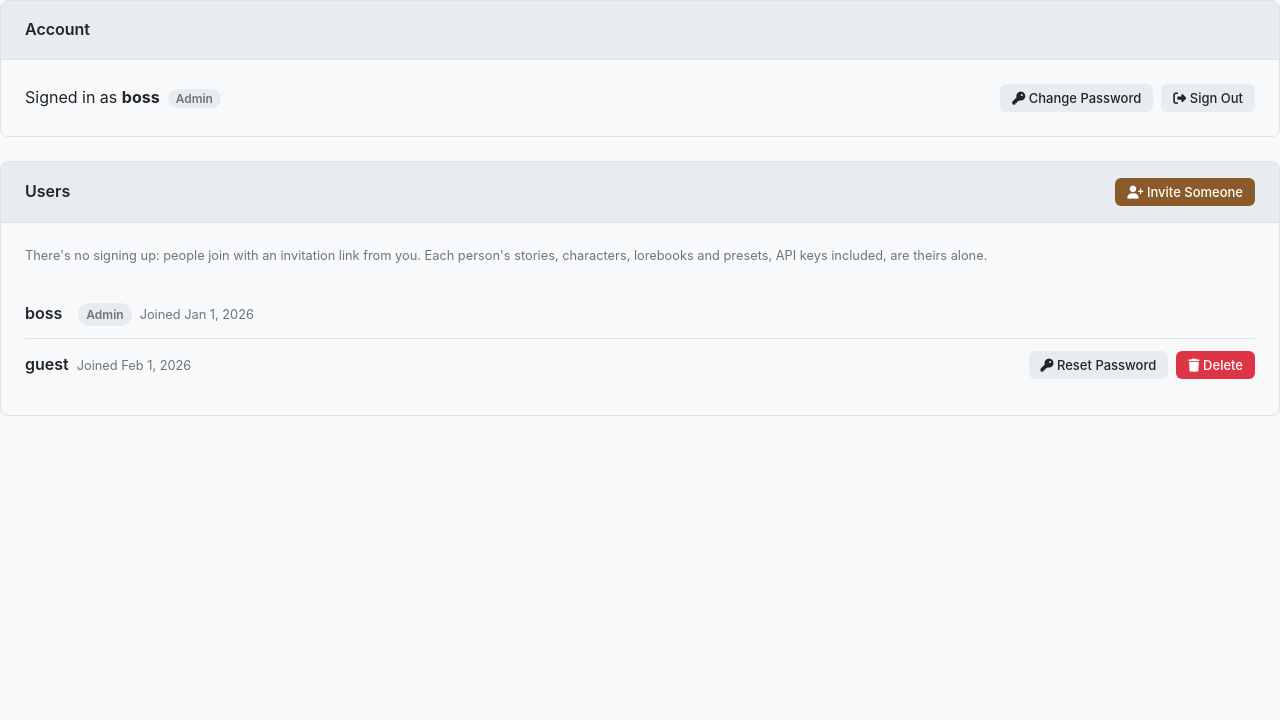
Test: AccountSettings › for the admin, signed in › shows an invitation link to copy
Click the button "Invite Someone". click: click(1185, 192)
box: [1115,178,1255,206]
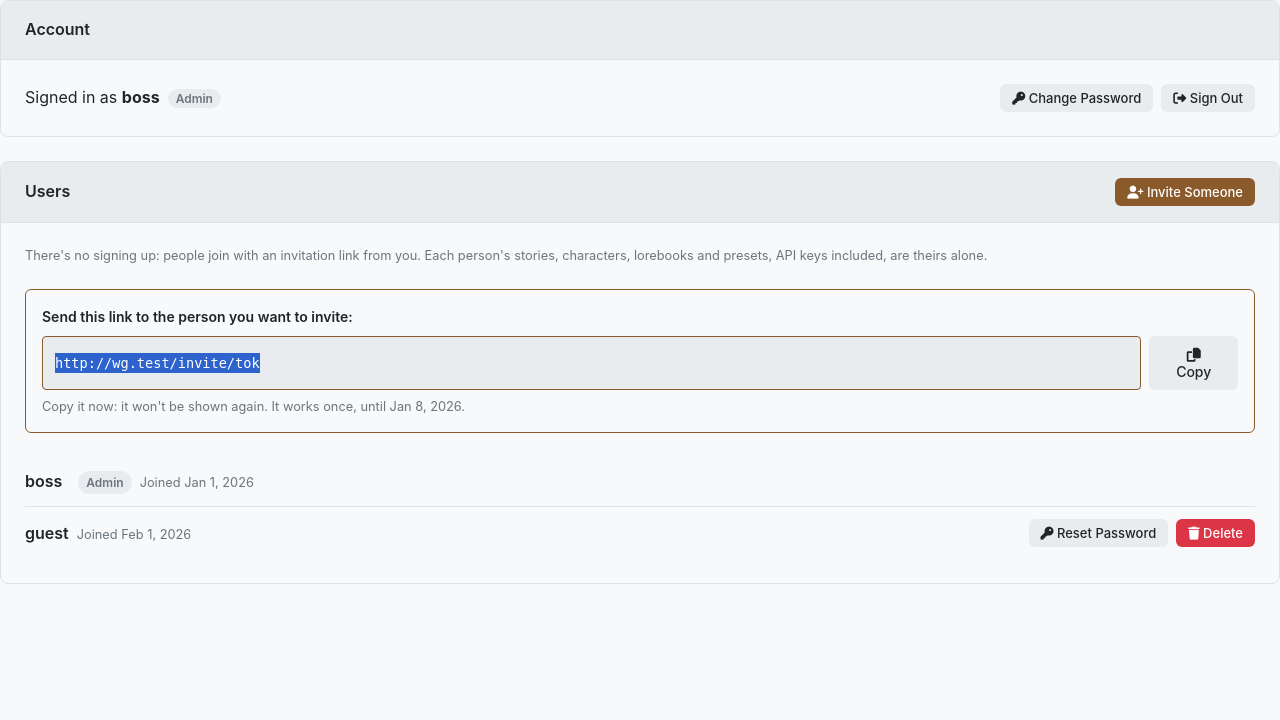
Check: the field holds "http://wg.test/invite/tok", box [42,336,1142,390]
